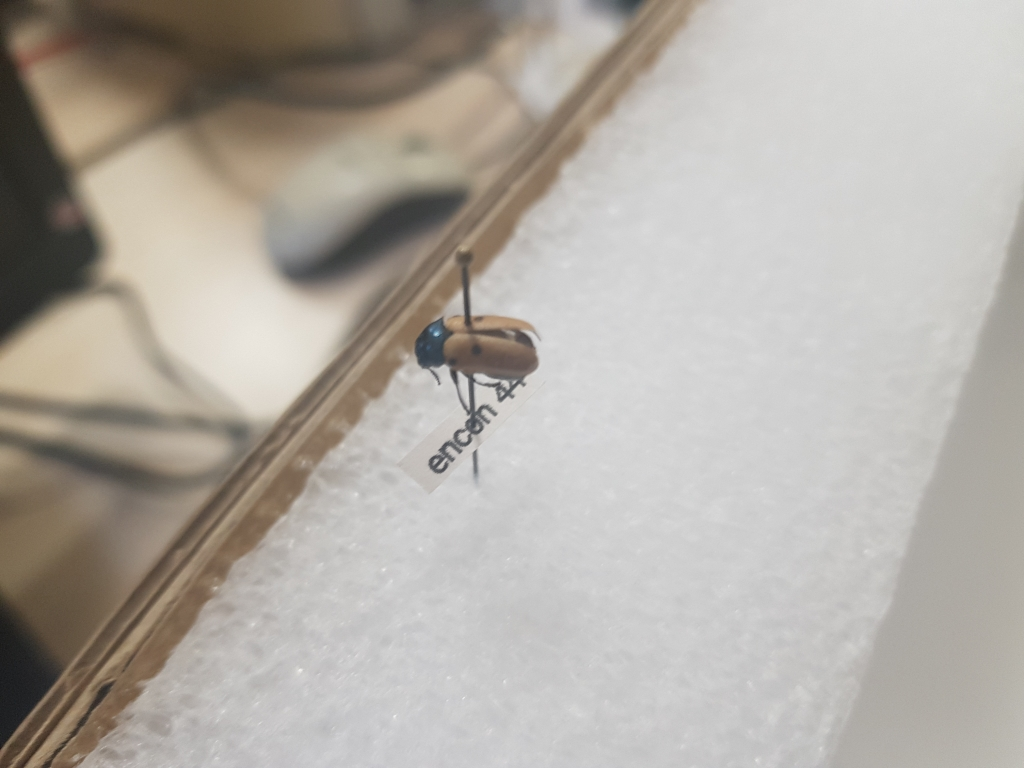Labidostomis_maculipennis: (408, 303, 546, 400)
